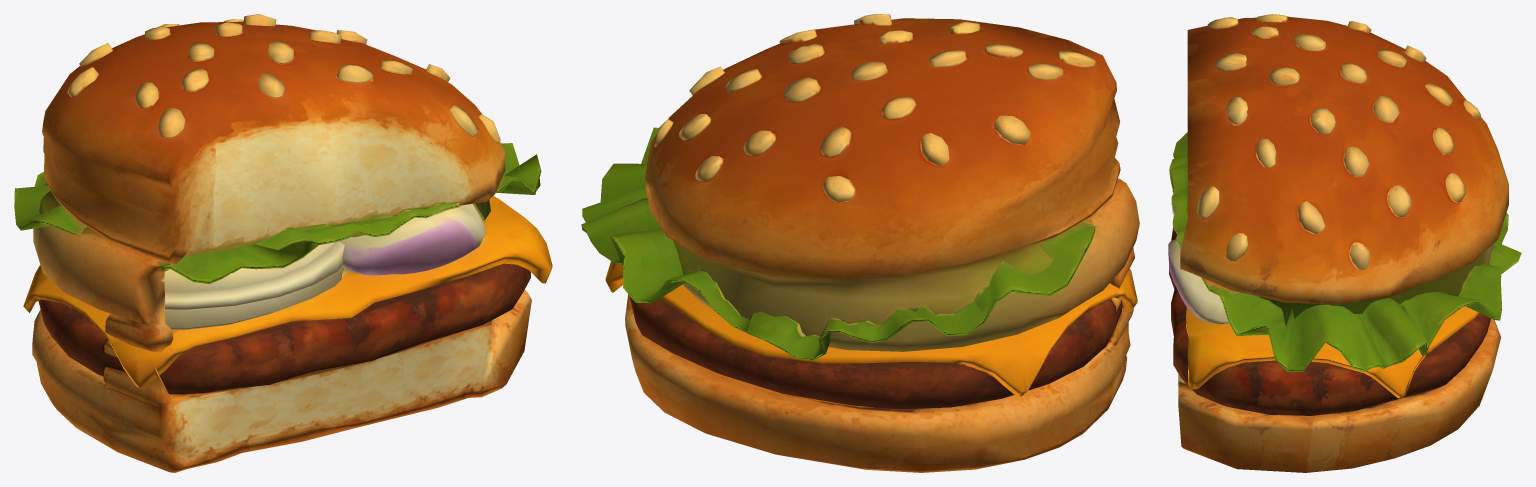
File: P58_large_burger_half_Runtime_1k.glb
The picture shows the model from 3 angles, left to right: view 1: azimuth 30°, elevation 25°; view 2: azimuth 150°, elevation 25°; view 3: azimuth 270°, elevation 25°; orthographic projection. The views are drawn at different scales.
Visible parts, largest first — view 1: tripo_node_fade6e1d; view 2: tripo_node_fade6e1d; view 3: tripo_node_fade6e1d.
Boxes of the visible parts, x1,y1,x2,y2 form: tripo_node_fade6e1d: (14, 14, 552, 472); tripo_node_fade6e1d: (581, 14, 1139, 472); tripo_node_fade6e1d: (1168, 14, 1521, 472).
Size of the model in its own units: 0.132 by 0.0933 by 0.0951.
Materials: 1 (1 with a texture image).
